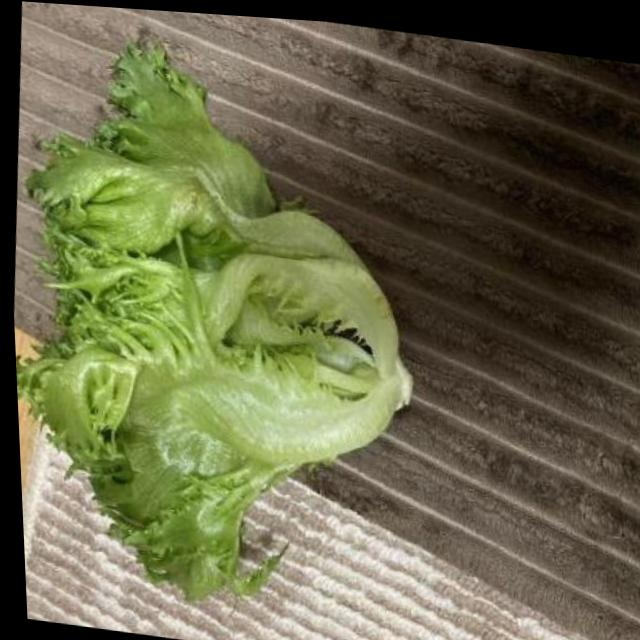Mature: (16, 45, 412, 597)
